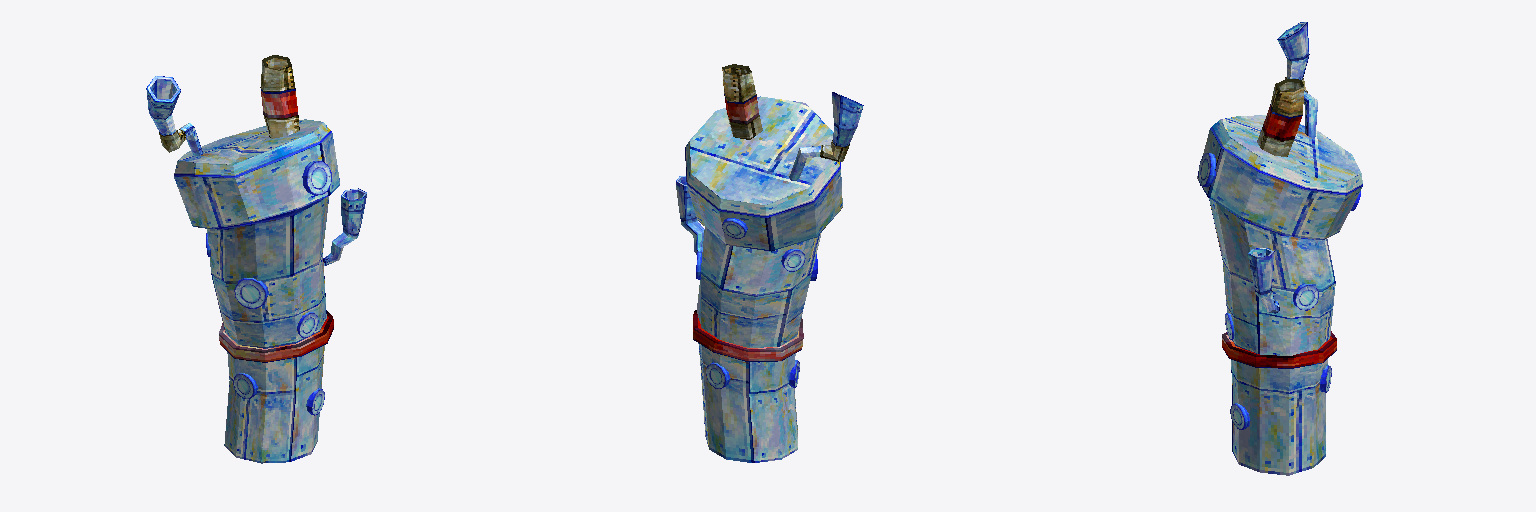
3 views of the same model, side by side, from view 1: azimuth 30°, elevation 25°; view 2: azimuth 150°, elevation 25°; view 3: azimuth 270°, elevation 25° (orthographic).
Parts seen in each view (by area): view 1: bb, vent, window; view 2: bb, vent, window; view 3: bb, vent, window.
Part boxes in pixels (x1,y1,x2,y2): bb: (174, 89, 339, 463); vent: (146, 55, 366, 265); window: (206, 161, 331, 415); bb: (685, 94, 842, 462); vent: (676, 64, 863, 254); window: (696, 218, 817, 388); bb: (1197, 104, 1362, 475); vent: (1248, 22, 1317, 313); window: (1198, 153, 1360, 429).
Bounding box in the file's own units: 3.04 × 5.59 × 2.2.
Materials: 3 (3 with a texture image).